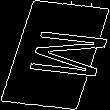M_E: (5, 27, 105, 83)
